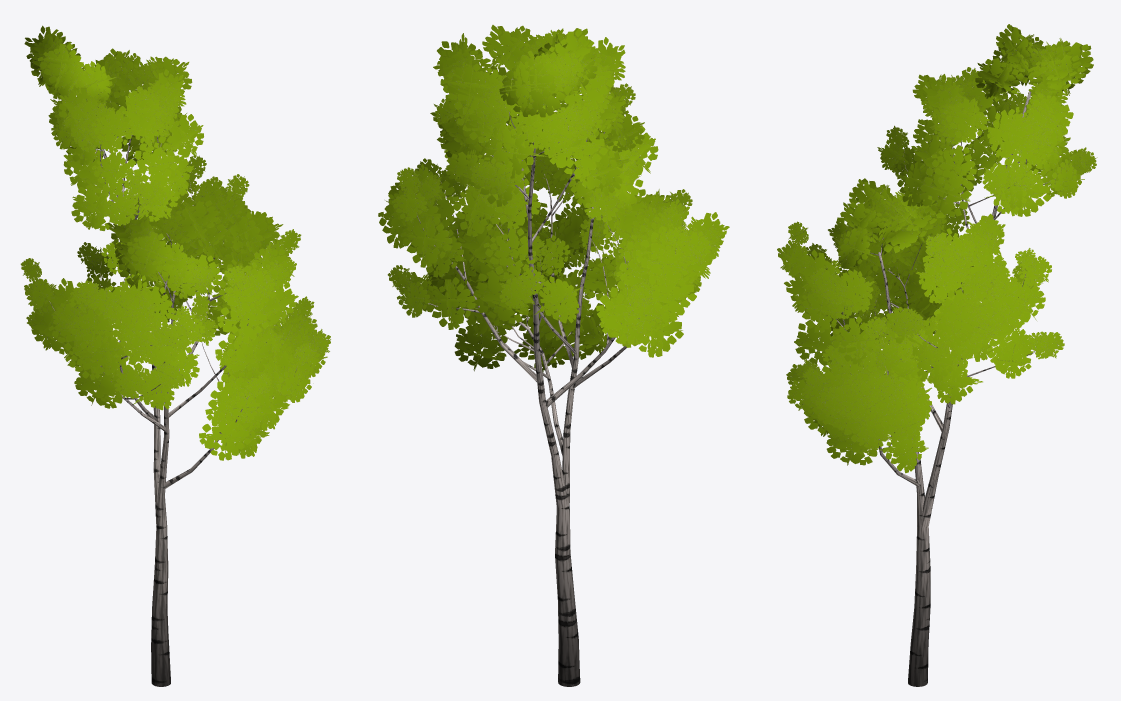
Rendered from tree-health-1-sapling.glb.
The picture shows the model from 3 angles, left to right: view 1: azimuth 30°, elevation 25°; view 2: azimuth 150°, elevation 25°; view 3: azimuth 270°, elevation 25°; orthographic projection. The views are drawn at different scales.
Parts seen in each view (by area): view 1: Birch_1; view 2: Birch_1; view 3: Birch_1.
Part boxes in pixels (x1,y1,x2,y2): Birch_1: (20, 25, 330, 686); Birch_1: (378, 25, 729, 686); Birch_1: (777, 24, 1097, 686).
Size of the model in its own units: 0.3047 by 0.65 by 0.3099.
2 materials, 2 textured.
